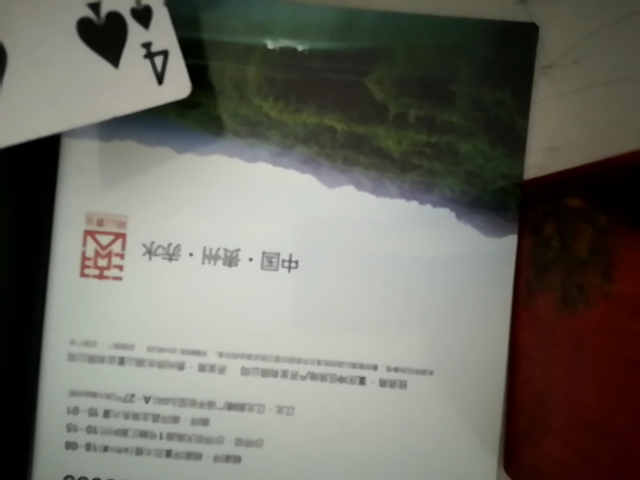ht 4: (0, 0, 204, 209)
